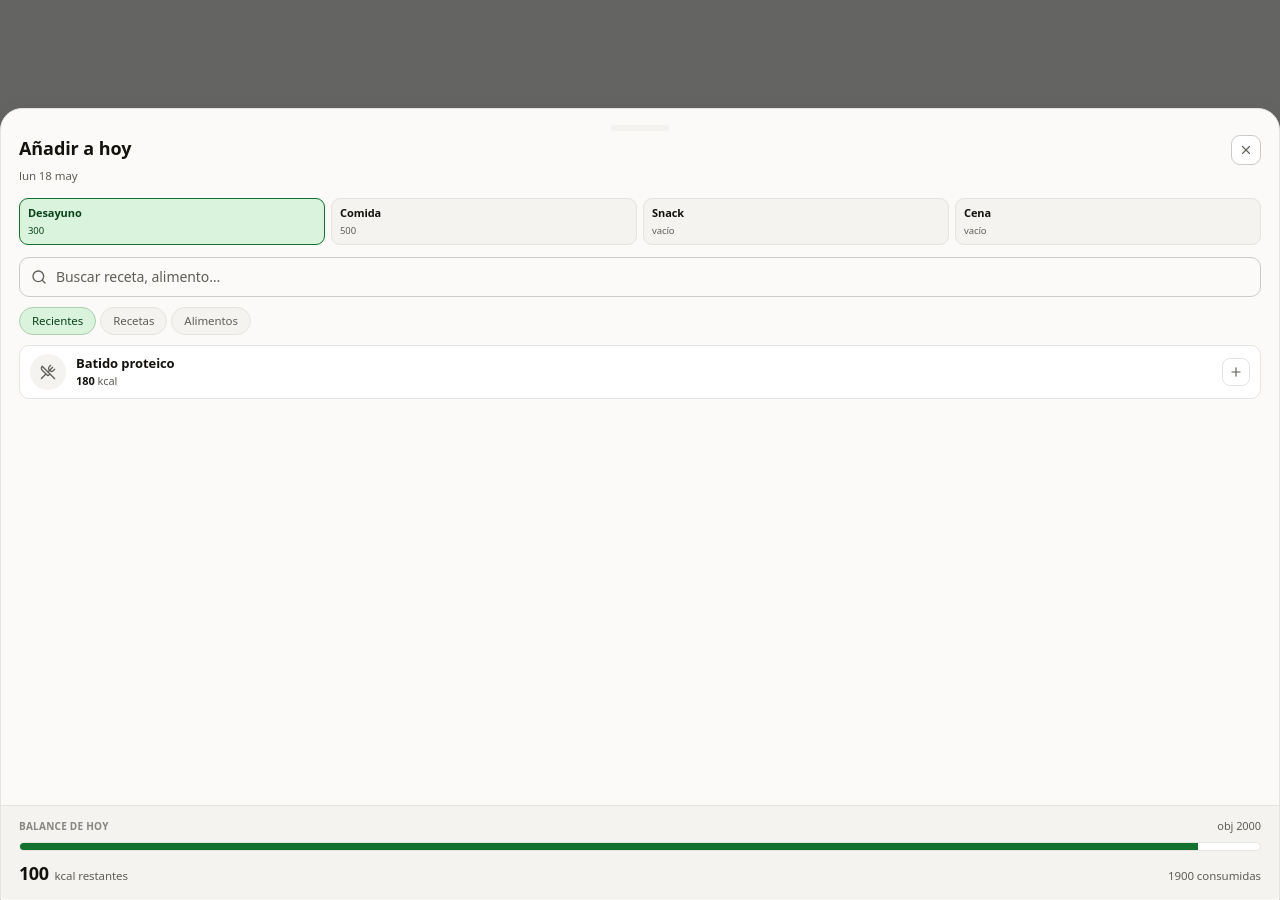
Test: AddToDaySheet › ración step › shows the amber over-state alert once the projected kcal exceeds the target
Press the mouse on the tab "Recetas": (134, 321) [100, 307, 167, 335]
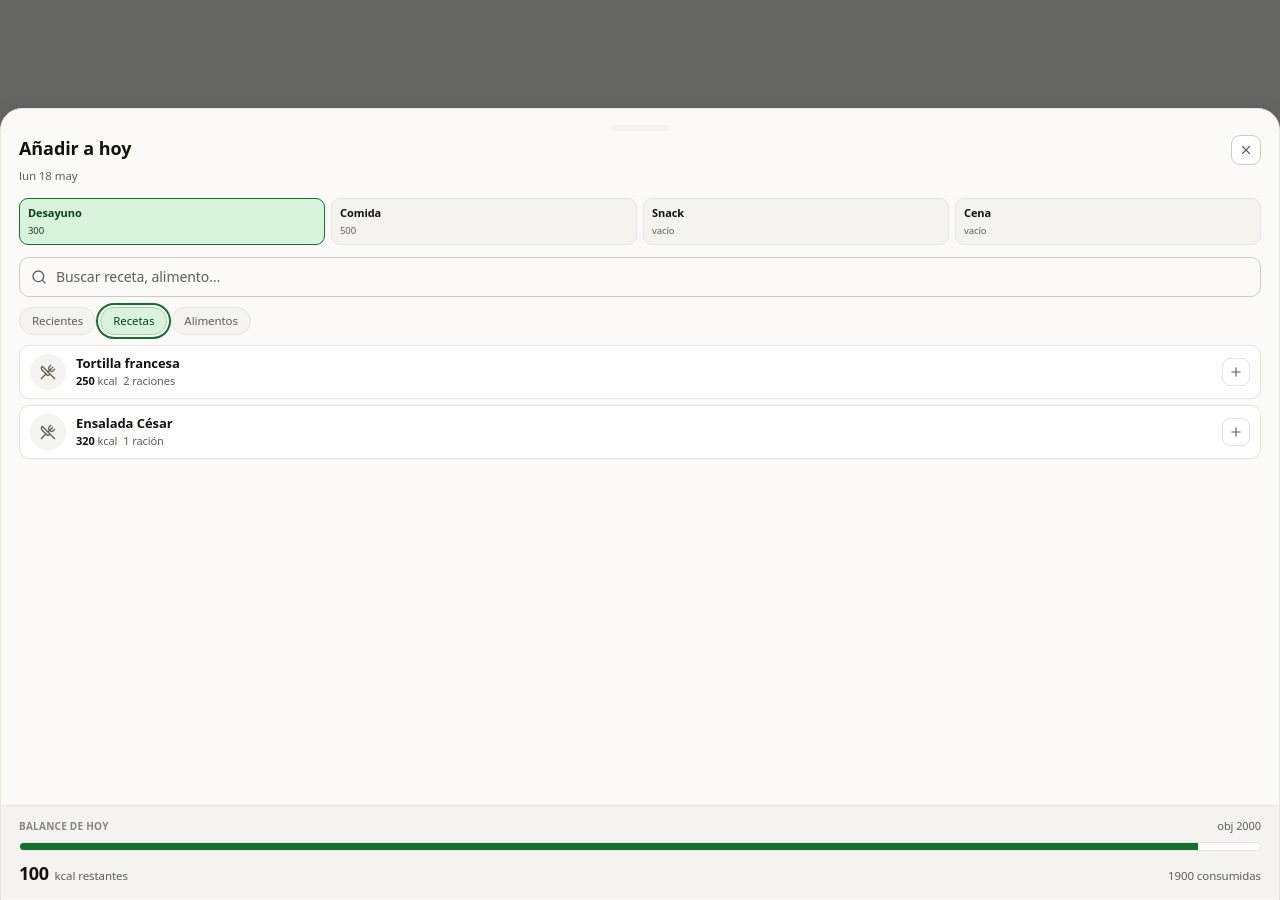
Click the text "Ensalada César": (124, 423) [76, 414, 172, 432]
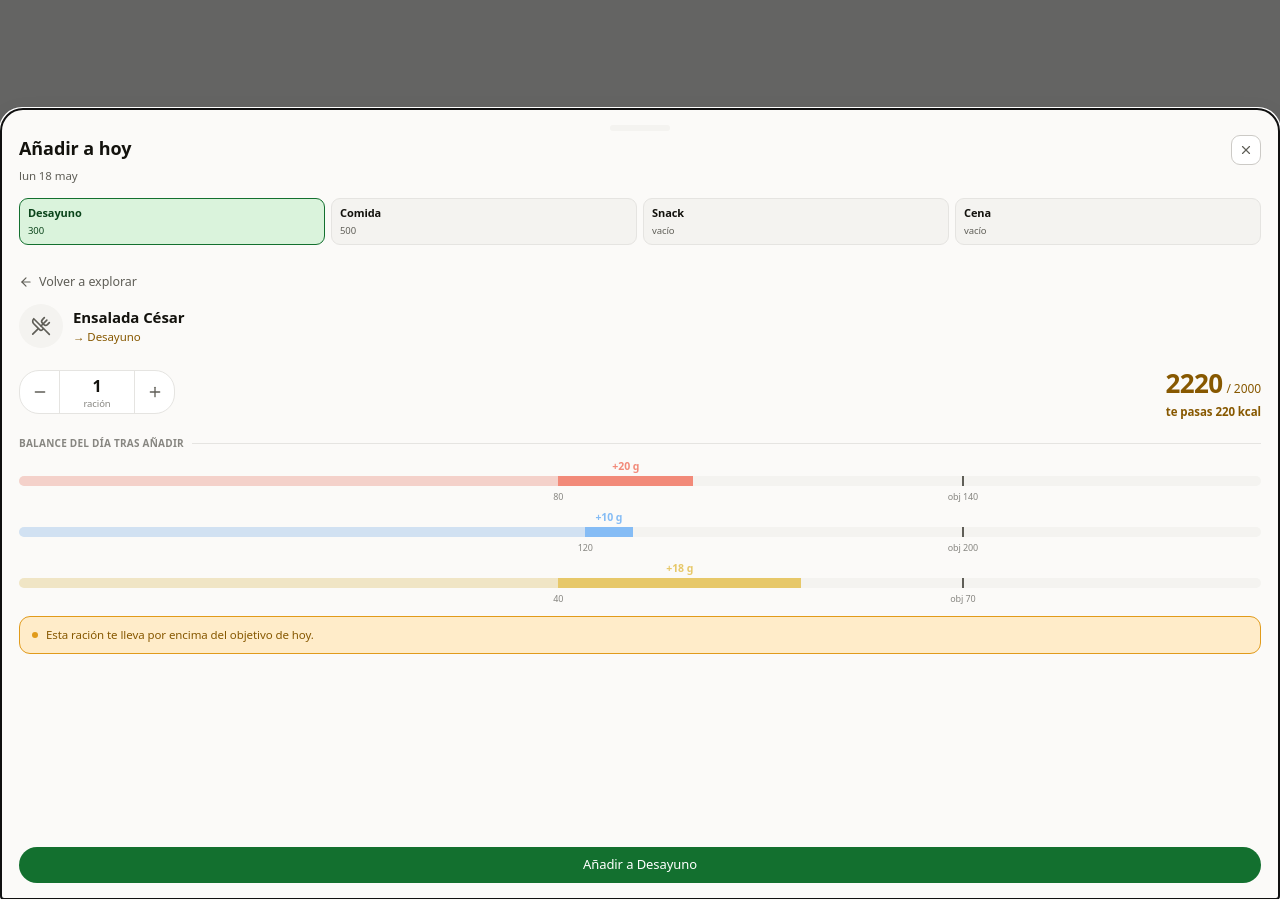
Result: the text "te pasas 220 kcal" is shown at [1166, 402, 1261, 420]
Result: the text "Esta ración te lleva por encima del objetivo de hoy." is shown at [46, 627, 314, 643]
